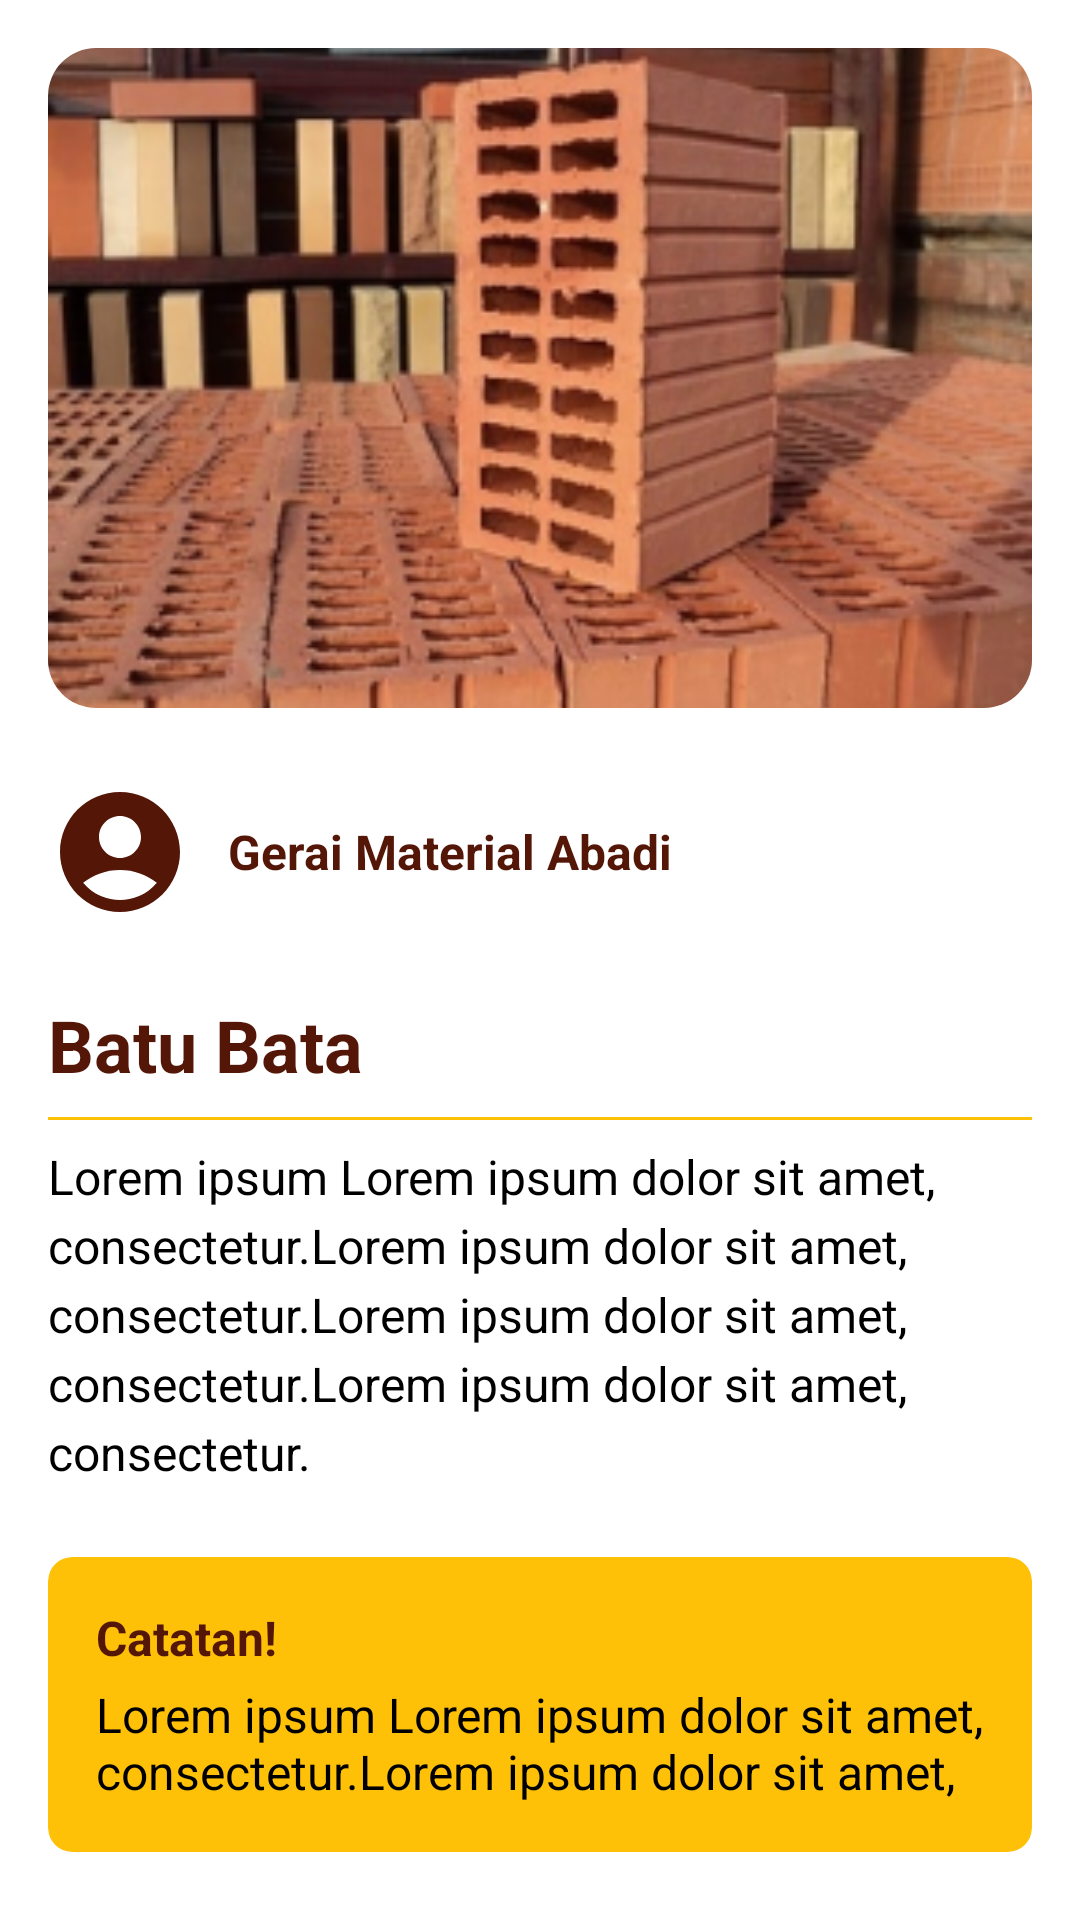

Where to tap for icons on this 1080 × 1920 app screen, as (x=x, y=y):
account circle: (x=120, y=852)
